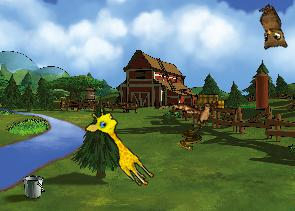eagle: (169, 87, 225, 136)
giraffe: (80, 104, 164, 190)
owl: (246, 2, 292, 56)
